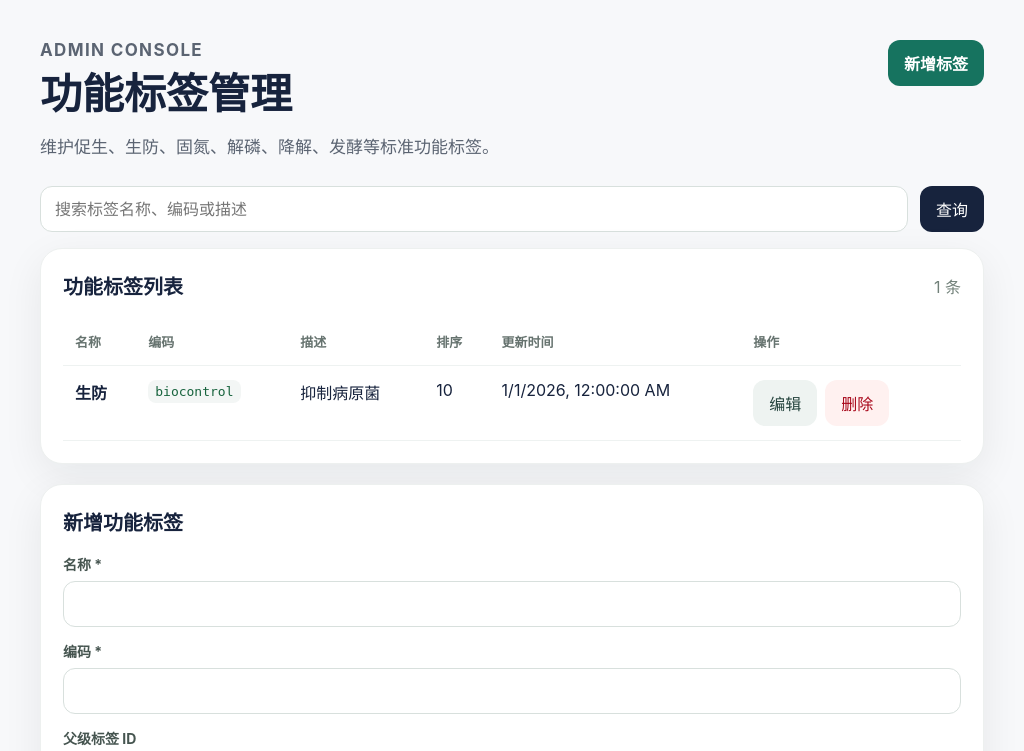
Scenario: FunctionTagManagement › 确认后删除功能标签并刷新列表
Click the button "删除" at (857, 403), box [825,380,889,426]
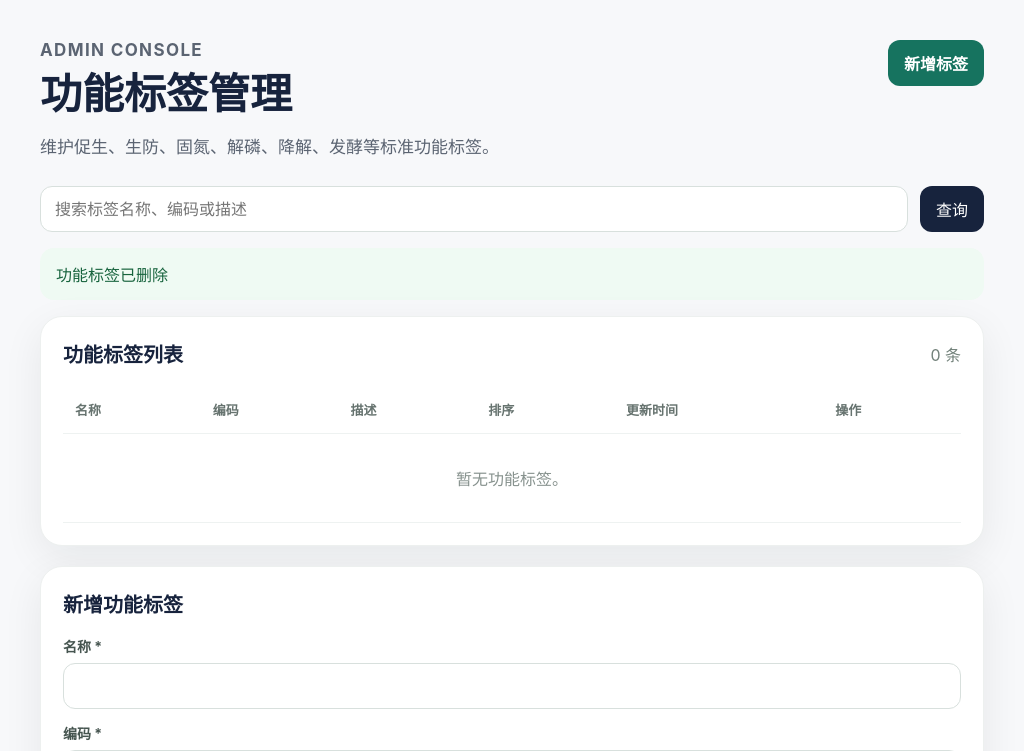
Expected: the text "暂无功能标签。" is shown, [63,434,961,522]
